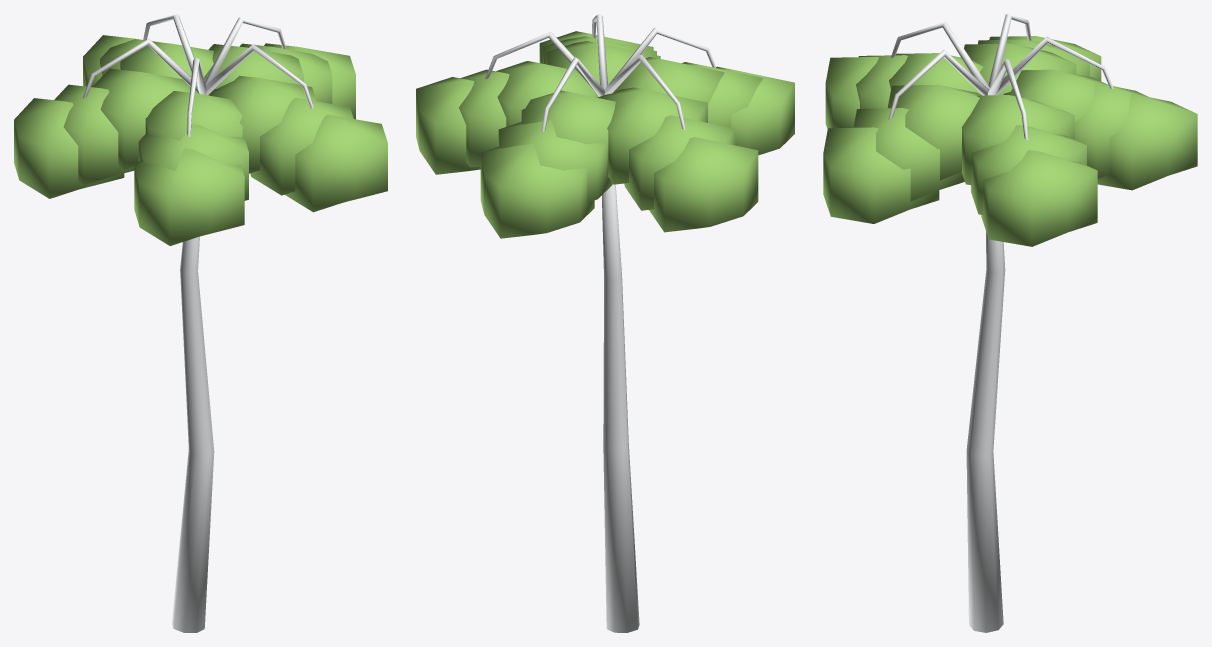
File: tree_silver_birch.glb
3 renders of one model, left to right at view 1: azimuth 30°, elevation 25°; view 2: azimuth 150°, elevation 25°; view 3: azimuth 270°, elevation 25°, orthographic.
Parts seen in each view (by area): view 1: Flora_Silver_Birch; view 2: Flora_Silver_Birch; view 3: Flora_Silver_Birch.
Boxes of the visible parts, <box> form: Flora_Silver_Birch: <box>14,14,387,632</box>; Flora_Silver_Birch: <box>416,14,794,632</box>; Flora_Silver_Birch: <box>823,14,1197,632</box>.
Size of the model in its own units: 4.9 by 8.36 by 4.74.
